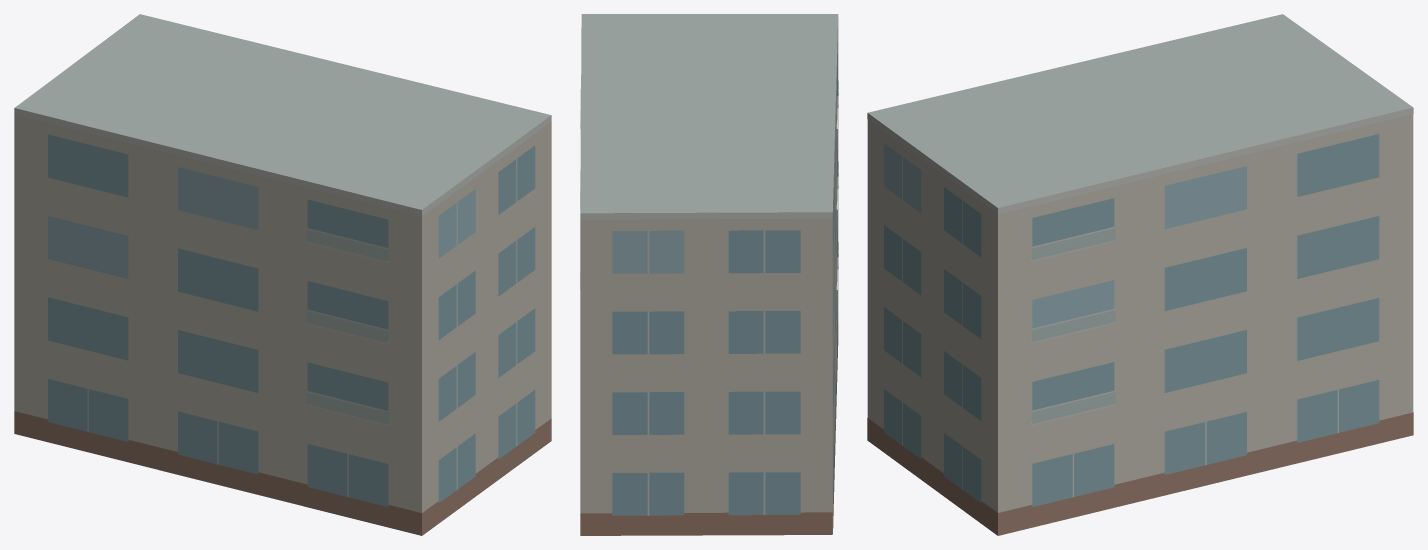
The model's file is survey-upis-32711050.glb.
3 views of the same model, side by side, from view 1: azimuth 30°, elevation 25°; view 2: azimuth 150°, elevation 25°; view 3: azimuth 270°, elevation 25° (orthographic).
Visible parts, largest first — view 1: survey-upis-32711050.tmp; view 2: survey-upis-32711050.tmp; view 3: survey-upis-32711050.tmp.
Boxes of the visible parts, x1,y1,x2,y2 form: survey-upis-32711050.tmp: (14, 14, 551, 535); survey-upis-32711050.tmp: (580, 14, 838, 535); survey-upis-32711050.tmp: (867, 14, 1413, 535).
Size of the model in its own units: 15.5 by 12.2 by 18.42.
